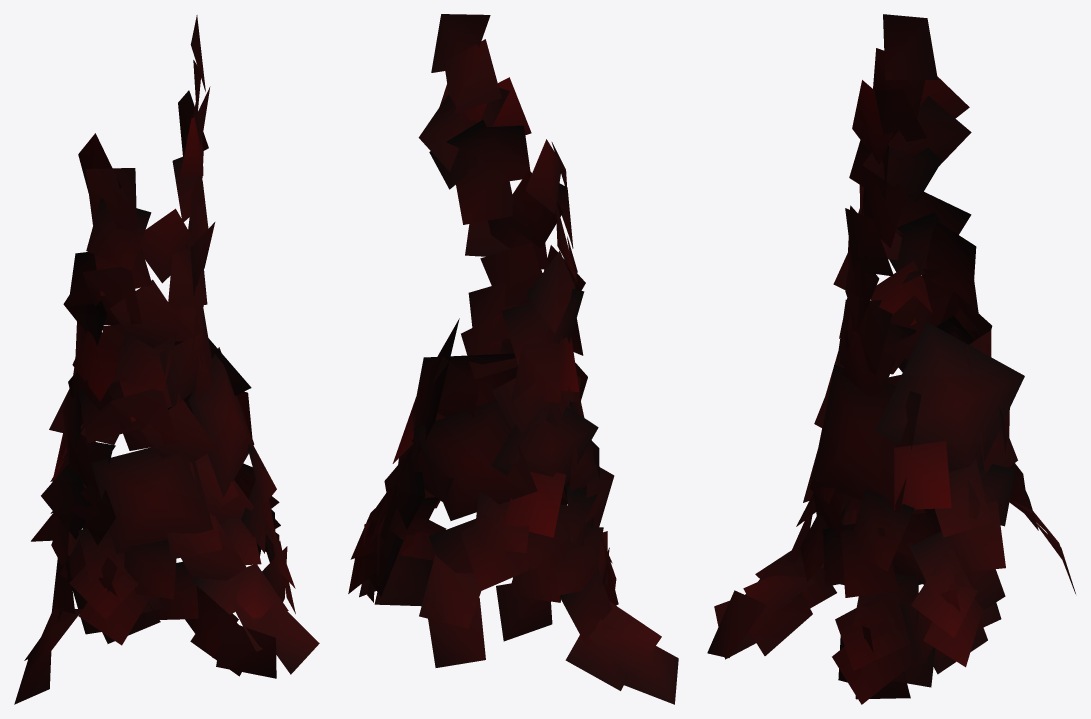
Rendered from TGV_Beech_Tree_02A_Ivy.fbx.
The picture shows the model from 3 angles, left to right: view 1: azimuth 30°, elevation 25°; view 2: azimuth 150°, elevation 25°; view 3: azimuth 270°, elevation 25°; orthographic projection. The views are drawn at different scales.
Visible parts, largest first — view 1: TGV_Beech_Tree_02A_Ivy_LOD0; view 2: TGV_Beech_Tree_02A_Ivy_LOD0; view 3: TGV_Beech_Tree_02A_Ivy_LOD0.
Part boxes in pixels (x1,y1,x2,y2): TGV_Beech_Tree_02A_Ivy_LOD0: [14, 15, 319, 704]; TGV_Beech_Tree_02A_Ivy_LOD0: [348, 14, 678, 704]; TGV_Beech_Tree_02A_Ivy_LOD0: [707, 14, 1075, 704].
Size of what is drawn, in the model's own units: 181 by 379 by 186.
